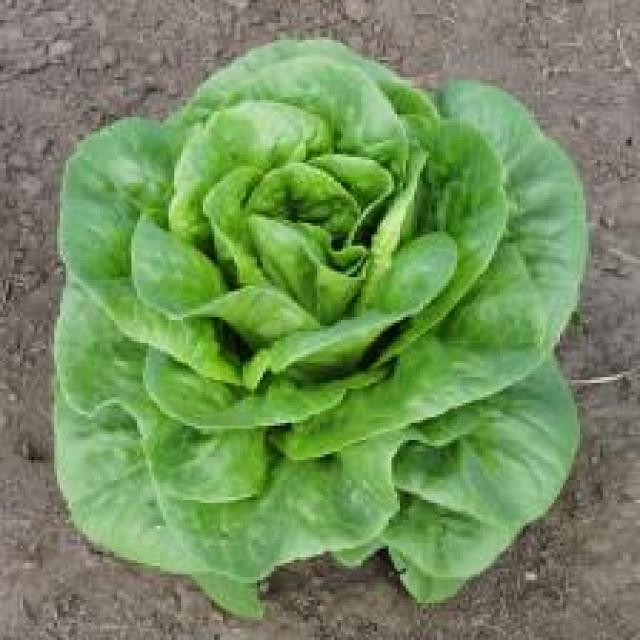Lettuce: (61, 37, 589, 604)
